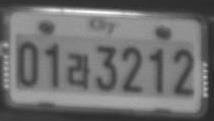0: (18, 41, 39, 87)
1: (43, 42, 63, 87), (148, 48, 168, 93)
2: (172, 49, 194, 96), (122, 46, 143, 93)
3: (94, 44, 117, 91)
라: (67, 51, 90, 89)
